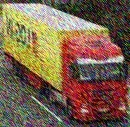truck: (2, 3, 128, 122)
